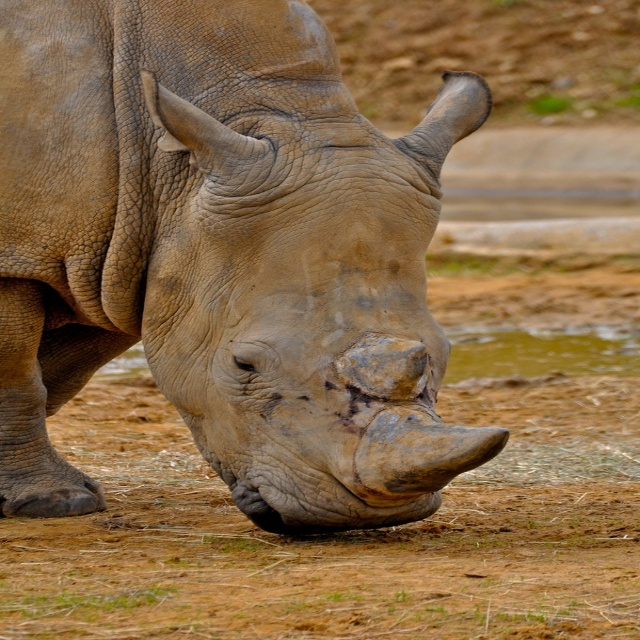Rhinoceros: (0, 0, 526, 557)
